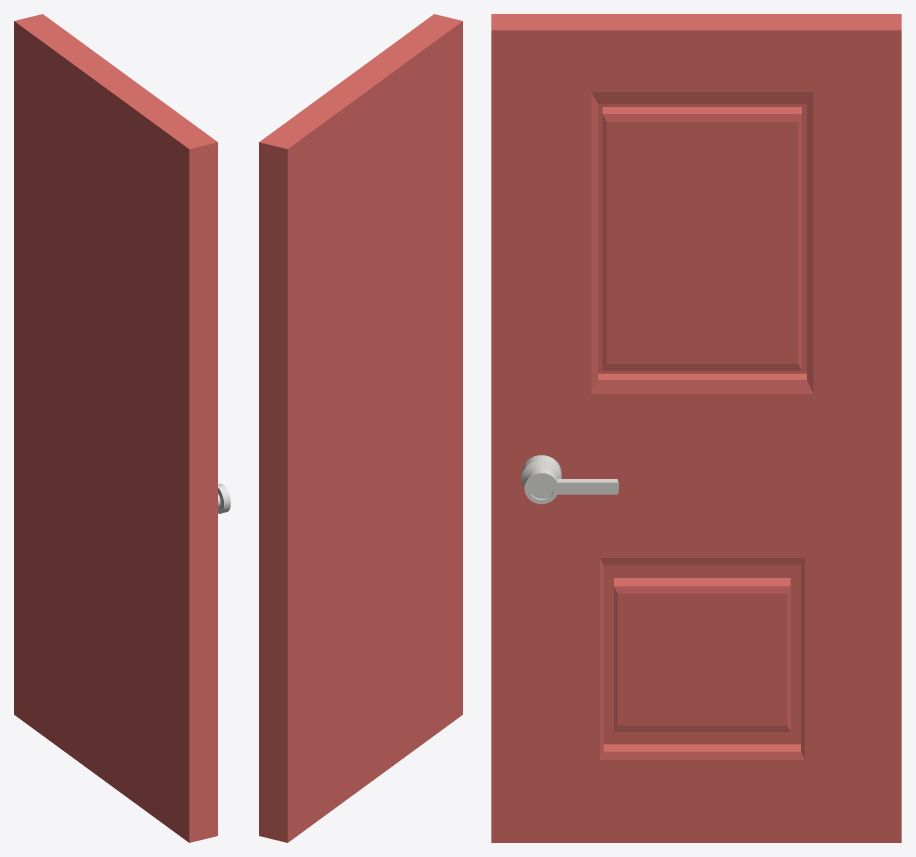
Rendered from door.fbx.
The picture shows the model from 3 angles, left to right: view 1: azimuth 30°, elevation 25°; view 2: azimuth 150°, elevation 25°; view 3: azimuth 270°, elevation 25°; orthographic projection. The views are drawn at different scales.
Visible parts, largest first — view 1: Cube; view 2: Cube; view 3: Cube, Cylinder.
Boxes of the visible parts, box(x1,y1,x2,y2) form: Cube: box(14, 14, 217, 842); Cube: box(259, 14, 462, 842); Cube: box(491, 14, 901, 842); Cylinder: box(521, 455, 618, 504).
Size of the model in its own units: 68.26 by 813 by 372.
